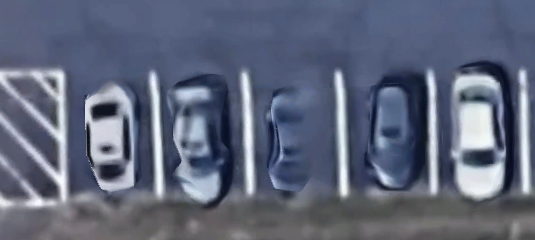Occupied: (246, 71, 342, 197), (63, 72, 157, 198), (156, 71, 250, 196), (433, 72, 526, 194), (342, 72, 433, 195)
